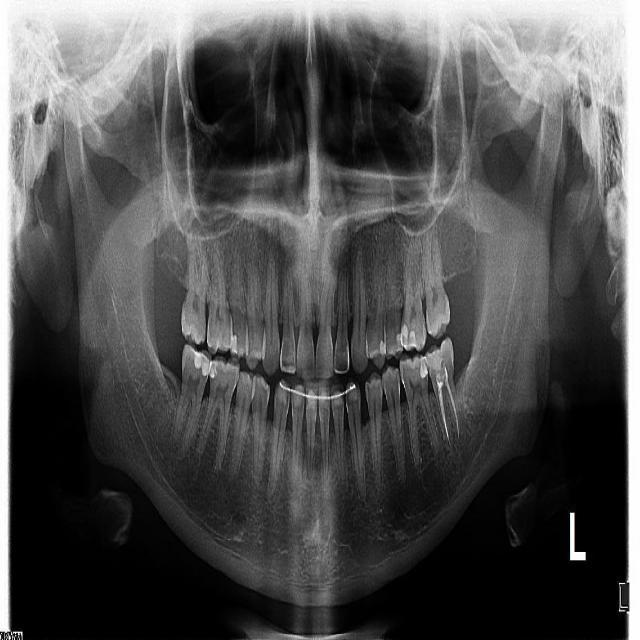74: (434, 364, 461, 443)
Straumann Implant: (420, 337, 459, 374), (188, 344, 218, 377), (396, 321, 418, 351), (419, 358, 428, 379), (394, 334, 404, 351), (230, 334, 238, 355), (209, 360, 218, 378), (379, 339, 386, 355)
